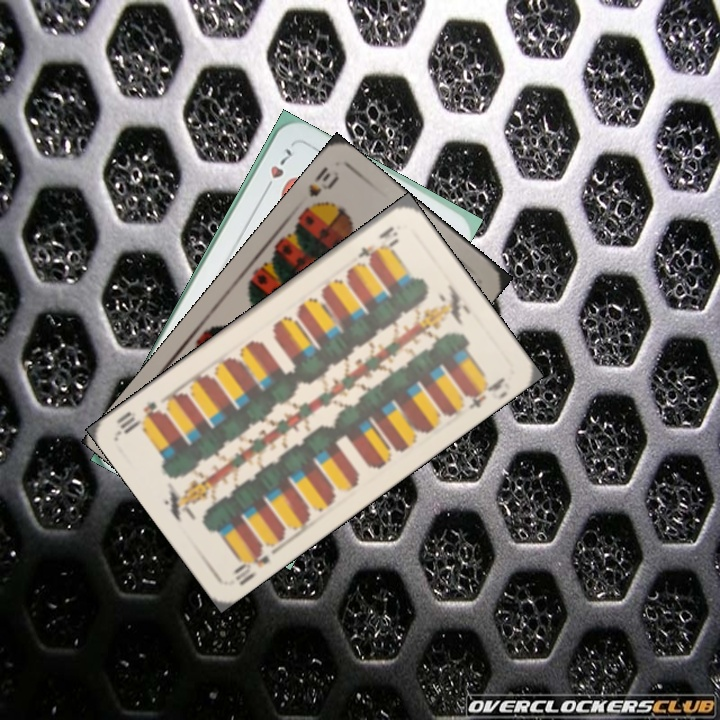E10: (229, 537, 276, 588), (354, 222, 401, 263)
H7: (259, 144, 294, 196)
S10: (299, 162, 342, 215)
